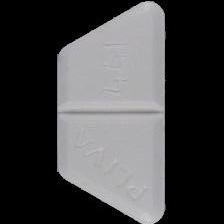10544-533: (0, 0, 224, 224)
